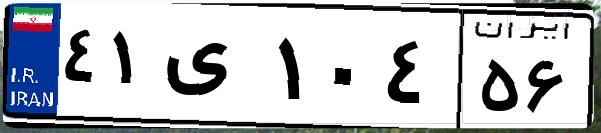0: (330, 28, 385, 110)
1: (270, 28, 330, 110), (110, 28, 158, 98)
4: (385, 28, 445, 110), (57, 26, 110, 100)
5: (475, 38, 525, 113)
6: (525, 38, 570, 115)
ی: (158, 20, 270, 120)
